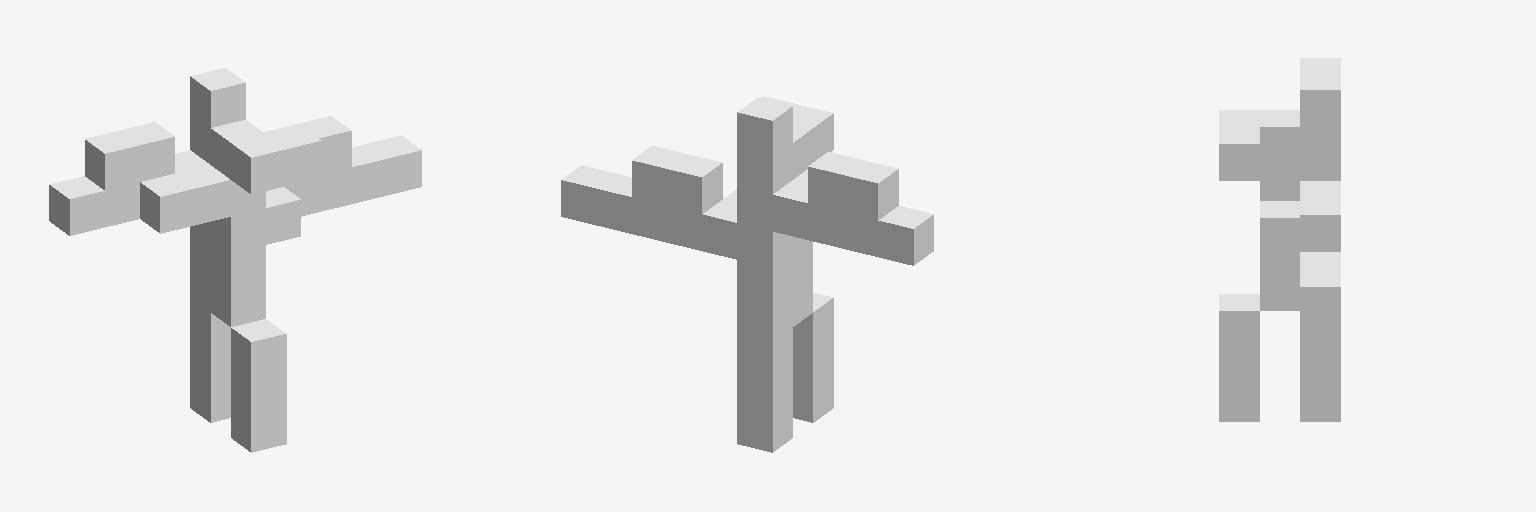
The model's file is stage3.obj.
3 renders of one model, left to right at view 1: azimuth 30°, elevation 25°; view 2: azimuth 150°, elevation 25°; view 3: azimuth 270°, elevation 25°, orthographic.
Parts seen in each view (by area): view 1: stage3; view 2: stage3; view 3: stage3.
Part boxes in pixels (x1,y1,x2,y2): stage3: (49, 68, 421, 452); stage3: (561, 96, 933, 452); stage3: (1219, 58, 1340, 421).
Bounding box in the file's own units: 10 × 9 × 3.